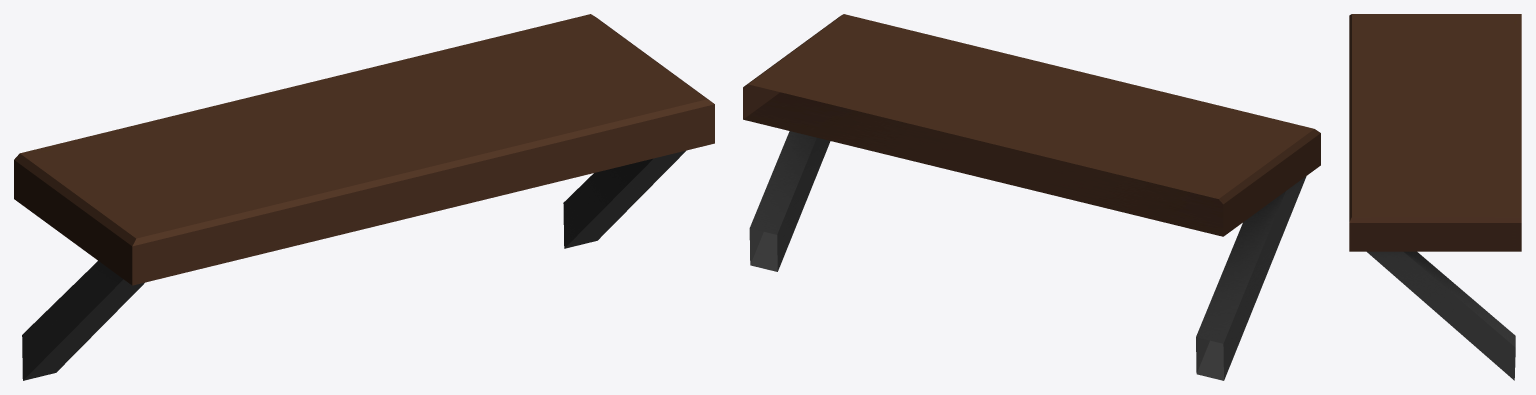
Rendered from Etagère.fbx.
3 renders of one model, left to right at view 1: azimuth 30°, elevation 25°; view 2: azimuth 150°, elevation 25°; view 3: azimuth 270°, elevation 25°, orthographic. The views are drawn at different scales.
Visible parts, largest first — view 1: Cube; view 2: Cube; view 3: Cube.
Part boxes in pixels (bbox=[...]): Cube: bbox=[14, 14, 714, 380]; Cube: bbox=[743, 14, 1320, 380]; Cube: bbox=[1349, 14, 1521, 380].
Size of the model in its own units: 253 by 92.64 by 88.87.
1 material, 1 textured.
